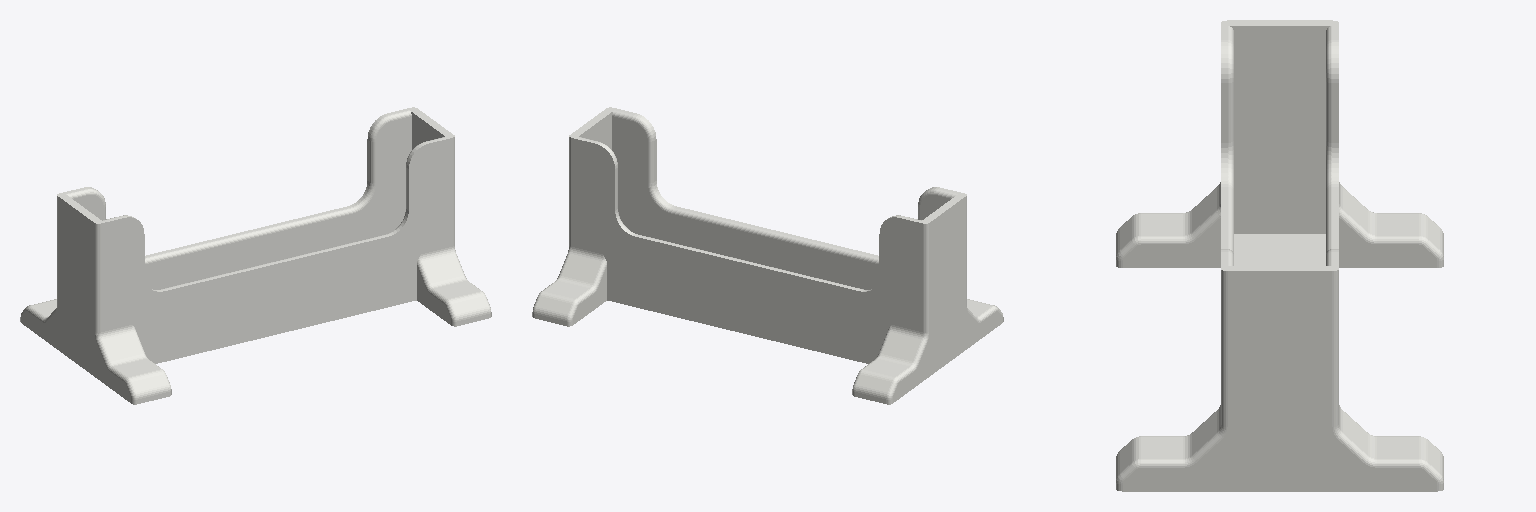
robot.urdf — cb_card_holder_deck0:
<?xml version="1.0"?>
<!-- ContactBench card_holder_deck0. Generated by FoundationTouch tools/contactbench/make_contactbench_assets.py -->
<robot name="cb_card_holder_deck0">
  <material name="c"><color rgba="0.92 0.92 0.90 1.0"/></material>
  <link name="receptive">
    <visual><origin xyz="0 0 0" rpy="0 0 0"/><geometry><mesh filename="card_holder_deck0.obj" scale="1 1 1"/></geometry><material name="c"/></visual>
    <collision><origin xyz="0 0 0" rpy="0 0 0"/><geometry><mesh filename="card_holder_deck0.obj" scale="1 1 1"/></geometry><sdf resolution="512"/></collision>
  </link>
</robot>

--- What the picture shows (computed from the rendered views, not written in the file) ---
Views: 3 orthographic renders of the robot side by side, from view 1: azimuth 30°, elevation 25°; view 2: azimuth 150°, elevation 25°; view 3: azimuth 270°, elevation 25°.
Robot: cb_card_holder_deck0 — 1 links, 0 joints (none); root link receptive; default pose: all joints at 0.
Links seen in each view (by area): view 1: receptive; view 2: receptive; view 3: receptive.
Link boxes in pixels (left/top/right/bottom): receptive: left=20, top=107, right=491, bottom=404; receptive: left=532, top=107, right=1003, bottom=404; receptive: left=1116, top=20, right=1443, bottom=491.
Bounding box of the posed robot: 0.0905 × 0.05 × 0.037 m (x, y, z).
Meshes: 1 distinct files referenced, 1 mesh visuals loaded (1 OBJ).
